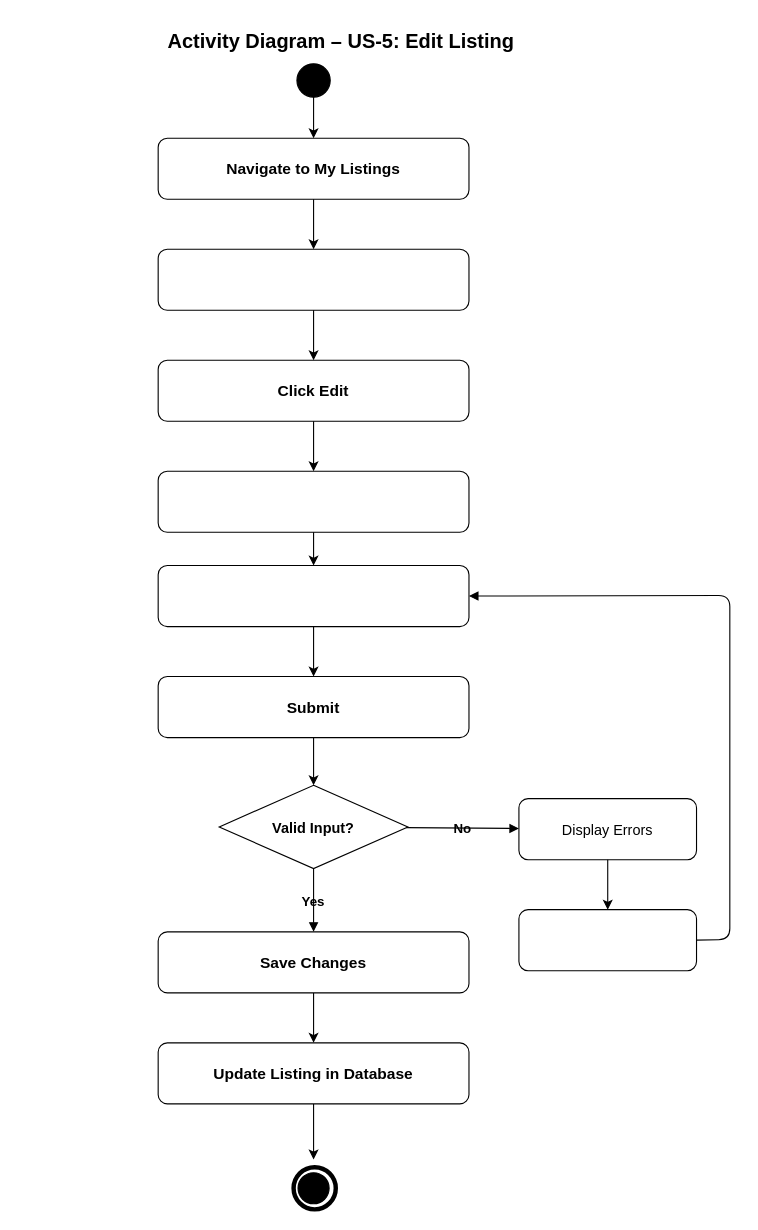
This 758x1230 diagram has some shape labels left out. The shapes that lost their labels are listed below. From the top down, each one's centre as x and y in pixels, then its label:
At point 313,279: "Select Listing".
At point 313,501: "System Displays Current Data".
At point 313,595: "Update Fields".
At point 607,940: "Return to Update Fields".
